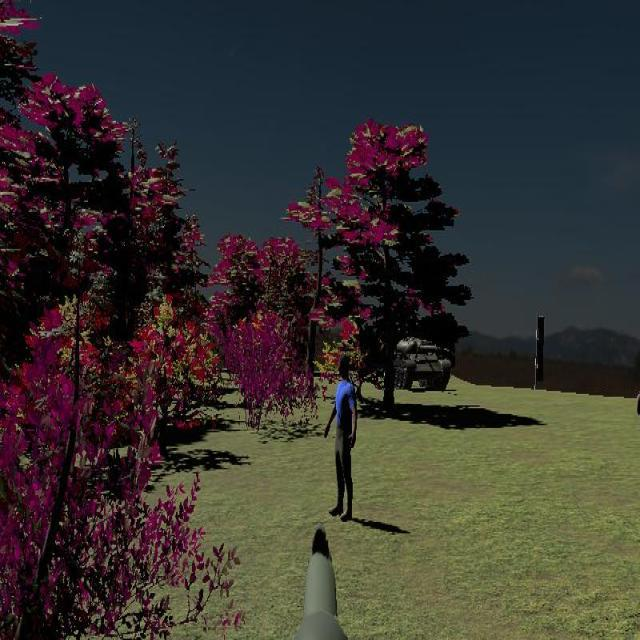Human: (325, 352, 358, 521)
Tank: (383, 332, 452, 393)
